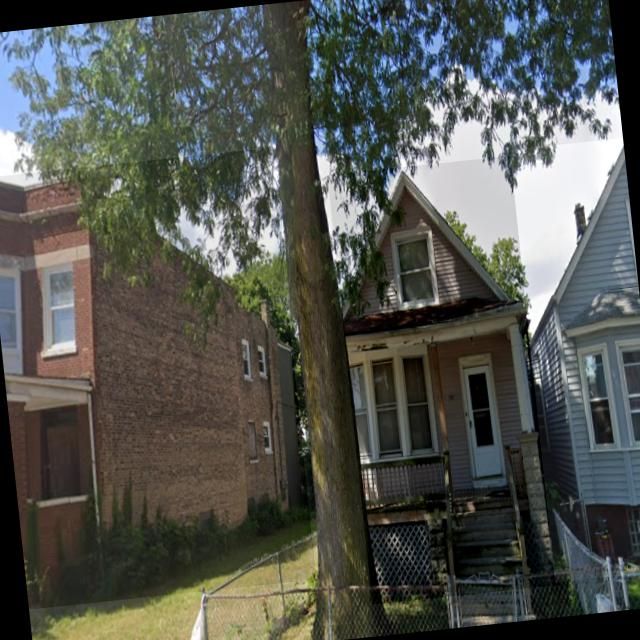House: (0, 147, 316, 609), (327, 155, 561, 604), (509, 137, 640, 582)
